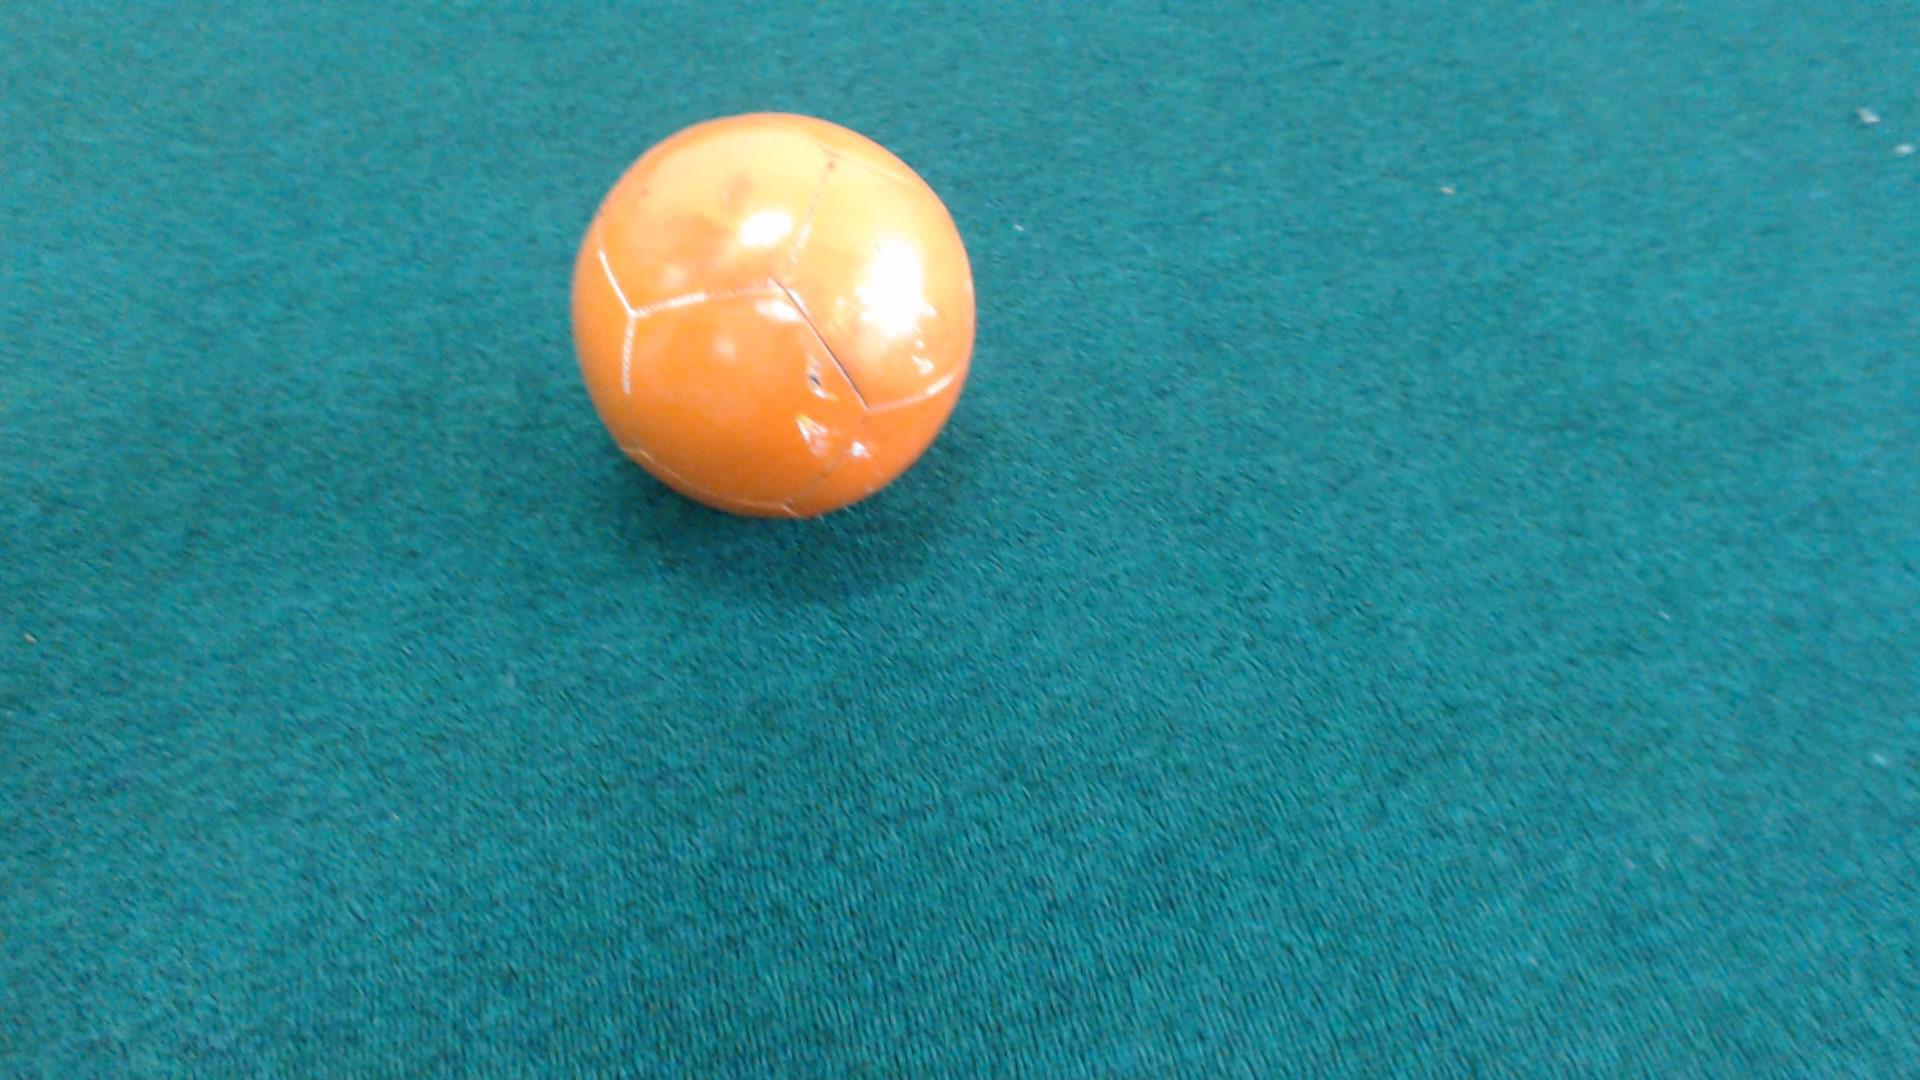bola: (554, 100, 1007, 584)
